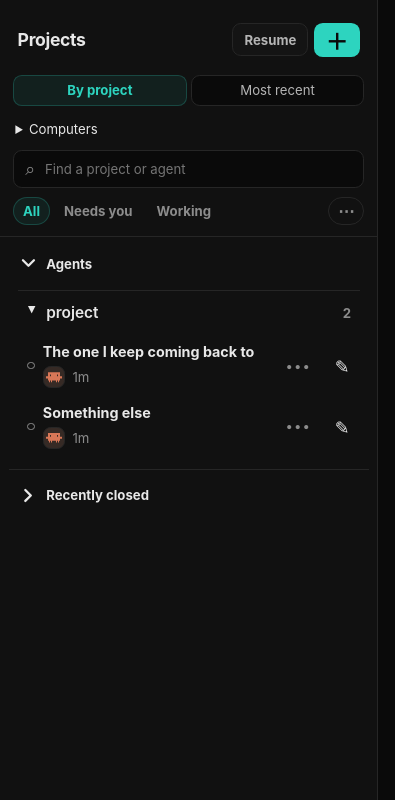
Test: capability: pin and unpin from the row › pins from the row menu and shows the row as pinned
Click the button named "Actions for The one I keep coming back to". click: (298,366)
box: [282,349,315,382]
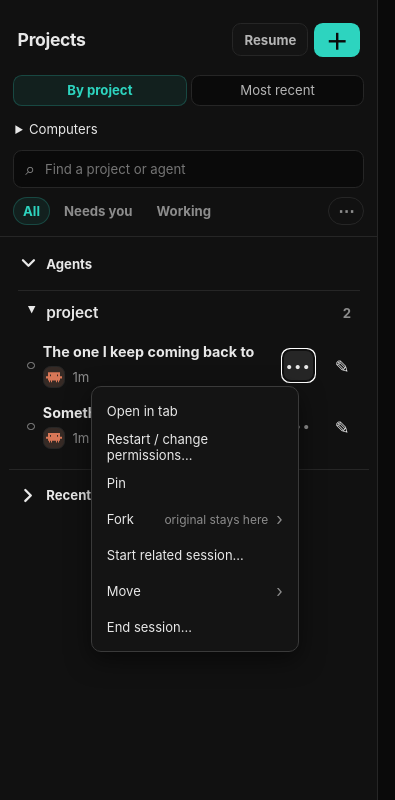
Note: Reachability. A capability with no affordance is not shipped.
Click the menu item "Pin". click: (195,483)
box: [98,465,292,501]
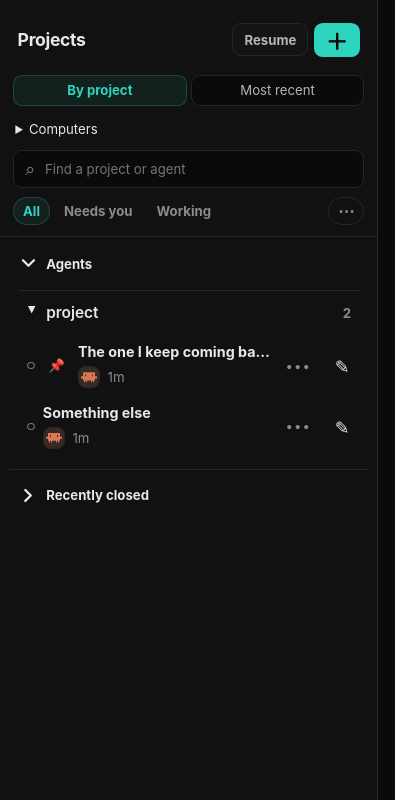
Now the text named "Pinned" is shown, box [48,357,65,373]
